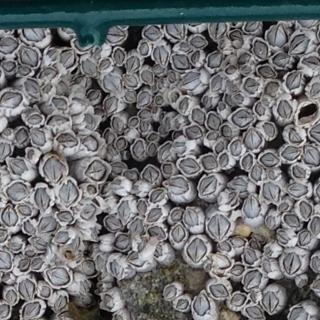Barnacle: (56, 181, 79, 222), (206, 213, 230, 241), (6, 181, 30, 204), (41, 157, 63, 182), (44, 266, 71, 286), (266, 23, 288, 47), (153, 44, 170, 74), (24, 23, 46, 46), (186, 237, 206, 262), (281, 252, 300, 277), (289, 32, 309, 55), (165, 176, 189, 195), (86, 160, 108, 180), (243, 127, 263, 149), (261, 290, 279, 313), (243, 195, 260, 219), (0, 89, 20, 109), (22, 78, 41, 99), (18, 278, 36, 300), (243, 269, 262, 289), (20, 48, 39, 68), (106, 24, 126, 43), (198, 176, 216, 197), (60, 48, 78, 69), (2, 202, 17, 227), (34, 187, 51, 209), (178, 157, 200, 174), (231, 109, 253, 126), (193, 293, 209, 316), (56, 136, 79, 152), (287, 181, 308, 198), (303, 144, 320, 165), (165, 22, 186, 39), (126, 251, 148, 267), (182, 71, 200, 90), (39, 213, 56, 233), (262, 181, 278, 202), (182, 125, 203, 141), (103, 74, 121, 92), (143, 24, 161, 42), (22, 303, 41, 320), (209, 20, 226, 39), (116, 199, 130, 222), (259, 151, 279, 167), (252, 40, 268, 60), (208, 283, 229, 298), (113, 232, 130, 250), (172, 53, 190, 70), (128, 217, 144, 236), (0, 37, 19, 53), (244, 305, 264, 320), (276, 98, 291, 118), (103, 93, 118, 113), (171, 222, 185, 243), (49, 114, 70, 128), (243, 78, 260, 95), (229, 176, 247, 192), (285, 71, 301, 89), (281, 145, 300, 160), (14, 125, 29, 144), (301, 55, 320, 70), (288, 306, 308, 320), (148, 188, 165, 204), (142, 166, 159, 182), (39, 68, 57, 83), (272, 53, 290, 68), (32, 130, 48, 146), (81, 260, 96, 277), (53, 231, 70, 246), (104, 215, 121, 230), (110, 160, 127, 175), (9, 160, 24, 177), (230, 292, 248, 306), (0, 250, 12, 271), (148, 225, 166, 239), (208, 112, 222, 130), (191, 107, 205, 125), (189, 34, 207, 48), (250, 164, 263, 183), (299, 200, 311, 220), (85, 135, 101, 150), (27, 111, 43, 126), (72, 76, 88, 91), (282, 213, 299, 227), (184, 208, 198, 225), (81, 204, 95, 221), (201, 155, 218, 169), (243, 18, 260, 32), (126, 53, 139, 71), (147, 207, 162, 222), (81, 60, 96, 75), (214, 255, 230, 269), (298, 230, 312, 246), (240, 153, 253, 170), (131, 141, 143, 159), (243, 248, 256, 264), (159, 144, 172, 160), (70, 97, 83, 113), (258, 65, 274, 78), (208, 52, 221, 68), (229, 139, 241, 156), (113, 48, 125, 65), (310, 215, 320, 235), (110, 259, 121, 277), (309, 81, 320, 99), (211, 73, 222, 91), (16, 258, 30, 272), (33, 236, 47, 250), (51, 97, 65, 111), (264, 81, 278, 95), (123, 74, 137, 88), (293, 163, 306, 178), (288, 129, 301, 144), (103, 127, 116, 142), (111, 115, 124, 130), (138, 91, 151, 106), (78, 278, 90, 294), (0, 142, 12, 158), (174, 138, 186, 154), (82, 113, 94, 129), (141, 69, 153, 85), (54, 294, 67, 308), (229, 263, 243, 276), (170, 208, 184, 221), (225, 192, 238, 206), (262, 122, 275, 136), (122, 90, 135, 104), (229, 30, 243, 43), (19, 203, 34, 215), (123, 169, 138, 181), (0, 304, 11, 320), (202, 95, 213, 111), (57, 311, 76, 320), (153, 243, 166, 256), (277, 230, 290, 243), (5, 290, 17, 304), (164, 285, 176, 299), (179, 97, 191, 111), (236, 53, 250, 65), (103, 293, 114, 308), (137, 236, 148, 251), (23, 219, 34, 234), (225, 80, 240, 91), (218, 153, 228, 169), (31, 257, 44, 269), (110, 178, 123, 190), (91, 107, 104, 119), (2, 59, 15, 71), (229, 236, 244, 246), (137, 200, 147, 215), (114, 138, 126, 150), (138, 109, 151, 120), (178, 42, 191, 53), (222, 125, 232, 139), (312, 256, 320, 273), (266, 214, 275, 229), (176, 299, 188, 310), (98, 59, 109, 71), (88, 89, 101, 99), (48, 46, 58, 59), (219, 241, 230, 252), (10, 239, 21, 250), (162, 163, 173, 174), (234, 93, 245, 104), (225, 65, 236, 76), (253, 232, 263, 244), (0, 124, 12, 134), (263, 259, 272, 272), (96, 255, 105, 268), (255, 102, 264, 115), (191, 50, 200, 63), (225, 93, 233, 107), (131, 184, 141, 195), (215, 141, 225, 152), (128, 116, 139, 126), (139, 42, 149, 53), (170, 90, 179, 102), (26, 148, 35, 159), (19, 66, 30, 75), (241, 65, 252, 74), (164, 116, 171, 130), (250, 290, 258, 302), (207, 132, 219, 140), (148, 144, 155, 157), (278, 202, 288, 211), (268, 171, 278, 180), (139, 122, 148, 132), (168, 71, 175, 83), (261, 96, 270, 105), (265, 246, 273, 256), (157, 78, 165, 88), (218, 39, 225, 50), (155, 95, 163, 104), (218, 102, 225, 112)
